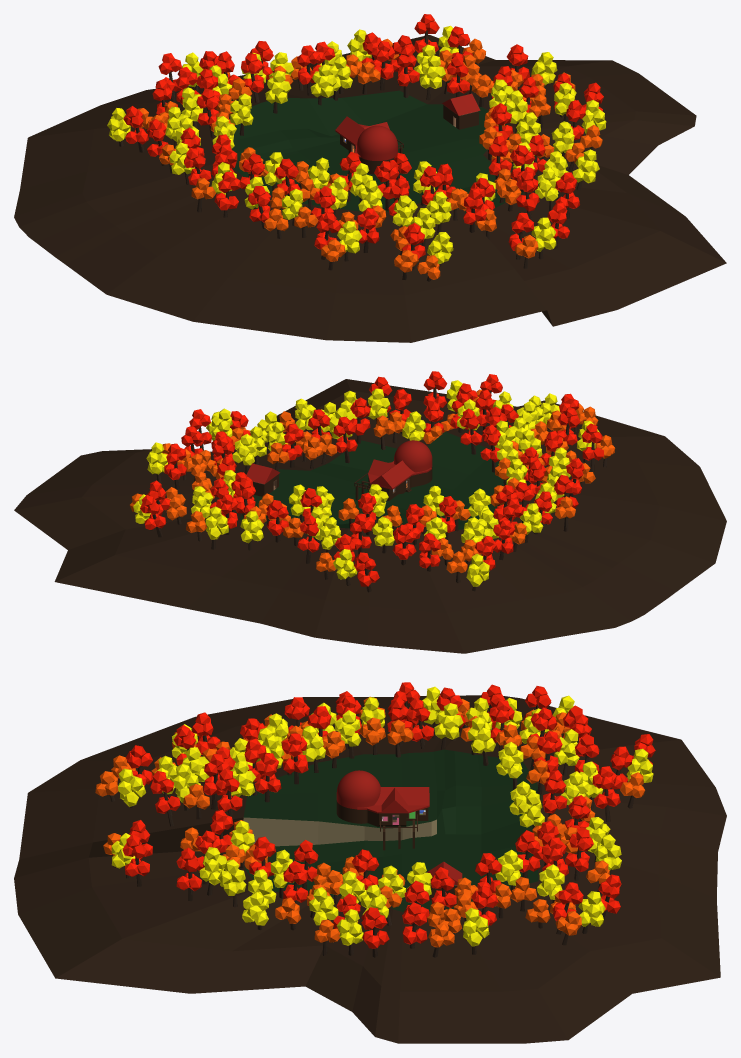
File: world.glb
3 renders of one model, top to bottom at view 1: azimuth 30°, elevation 25°; view 2: azimuth 150°, elevation 25°; view 3: azimuth 270°, elevation 25°, orthographic. The views are drawn at different scales.
Parts seen in each view (by area): view 1: Plane.008, Sphere.001, Cube.151, Cube.131, Cube.073, Cube.109, Cube.076, Cube.182, Cube.116, Cube.063, Cube.141, Cube.075 (+37 smaller); view 2: Plane.008, Sphere.001, Cube.070, Cube.176, Cube.103, Cube.189, Cube.086, Cube.114, Cube.136, Cube.172, Cube.199, Cube.125 (+28 smaller); view 3: Plane.008, Sphere.001, Plane.007, Cube.172, Cube.094, Cube.079, Cube.200, Cube.165, Cube.125, Cube.191, Cube.098, Cube.130 (+45 smaller).
Part boxes in pixels (left/top/right/bottom): Plane.008: left=14, top=35, right=726, bottom=342; Sphere.001: left=357, top=125, right=397, bottom=160; Cube.151: left=214, top=171, right=240, bottom=217; Cube.131: left=516, top=171, right=539, bottom=220; Cube.073: left=396, top=46, right=419, bottom=97; Cube.109: left=419, top=55, right=445, bottom=100; Cube.076: left=241, top=53, right=263, bottom=102; Cube.182: left=572, top=149, right=599, bottom=190; Cube.116: left=265, top=70, right=291, bottom=113; Cube.063: left=310, top=64, right=336, bottom=105; Cube.141: left=123, top=106, right=148, bottom=152; Cube.075: left=297, top=45, right=320, bottom=95; Plane.008: left=14, top=379, right=726, bottom=653; Sphere.001: left=394, top=440, right=432, bottom=472; Cube.070: left=333, top=416, right=357, bottom=463; Cube.176: left=392, top=524, right=416, bottom=565; Cube.103: left=582, top=423, right=603, bottom=471; Cube.189: left=164, top=443, right=186, bottom=489; Cube.086: left=354, top=552, right=379, bottom=592; Cube.114: left=266, top=500, right=289, bottom=542; Cube.136: left=419, top=533, right=440, bottom=571; Cube.172: left=297, top=515, right=319, bottom=563; Cube.199: left=205, top=506, right=228, bottom=549; Cube.125: left=459, top=408, right=482, bottom=454; Plane.008: left=14, top=695, right=726, bottom=1043; Sphere.001: left=336, top=770, right=380, bottom=809; Plane.007: left=336, top=800, right=428, bottom=826; Cube.172: left=592, top=766, right=620, bottom=822; Cube.094: left=361, top=907, right=389, bottom=957; Cube.079: left=282, top=733, right=308, bottom=784; Cube.200: left=565, top=827, right=593, bottom=880; Cube.165: left=150, top=771, right=180, bottom=826; Cube.125: left=254, top=753, right=281, bottom=802; Cube.191: left=402, top=902, right=427, bottom=948; Cube.098: left=122, top=834, right=149, bottom=886; Cube.130: left=176, top=847, right=201, bottom=901.
Bounding box in the file's own units: 413 × 67.5 × 367.
3 materials, 3 textured.
